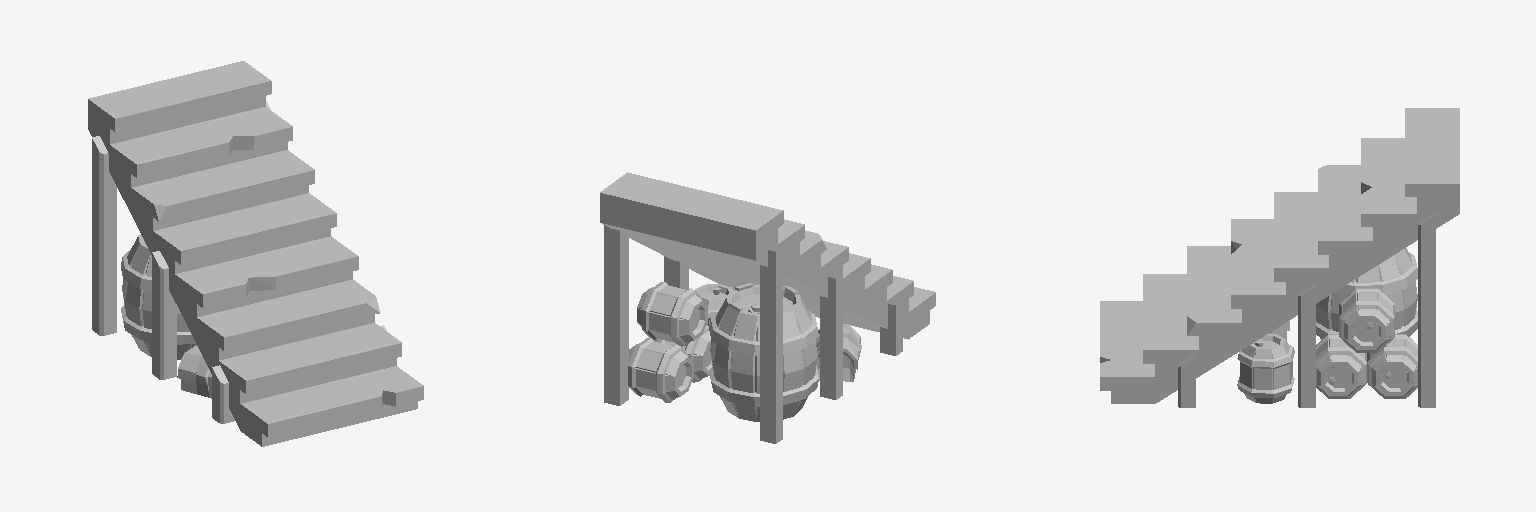
The model's file is stairs_wood_decorated.obj.
3 views of the same model, side by side, from view 1: azimuth 30°, elevation 25°; view 2: azimuth 150°, elevation 25°; view 3: azimuth 270°, elevation 25° (orthographic).
Visible parts, largest first — view 1: stairs_wood_decorated; view 2: stairs_wood_decorated; view 3: stairs_wood_decorated.
Part boxes in pixels (x1,y1,x2,y2): stairs_wood_decorated: (88,61,423,446); stairs_wood_decorated: (600,172,935,443); stairs_wood_decorated: (1100,108,1459,407).
Bounding box in the file's own units: 3.3 × 4.05 × 6.